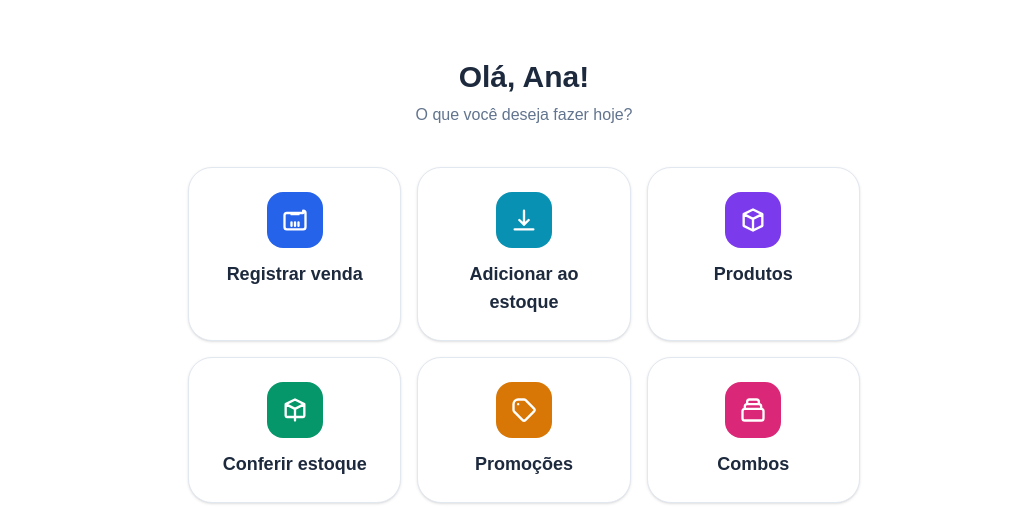
SimplesAssistant › navega para o EstoqueView com os produtos recebidos ao clicar em 'Conferir estoque'
Click the button "Conferir estoque".
click(295, 430)  # box x1=188 y1=357 x2=401 y2=503
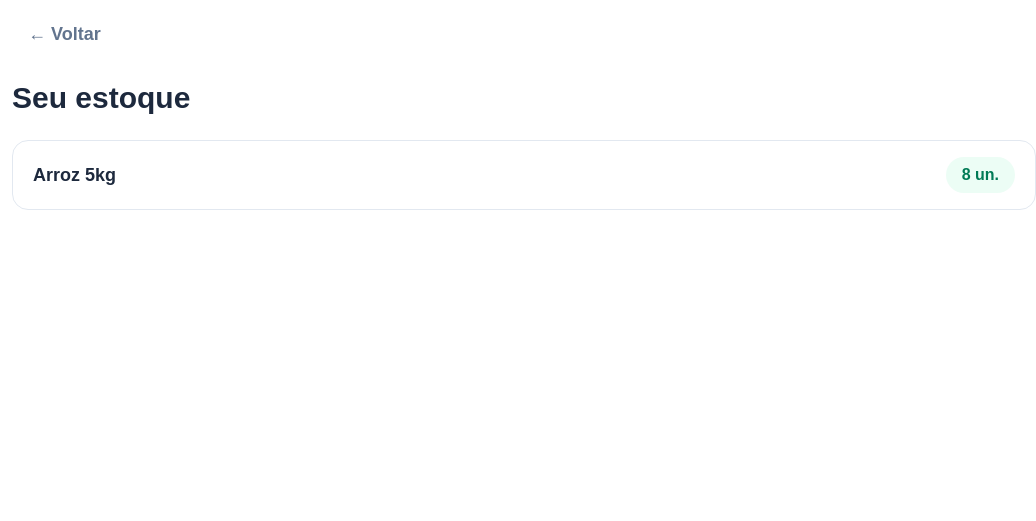
Result: the heading "Seu estoque" is shown at x1=12 y1=81 x2=190 y2=114
Result: the text "Arroz 5kg" is shown at x1=33 y1=161 x2=116 y2=189
Result: the text "8 un." is shown at x1=946 y1=157 x2=1015 y2=193
